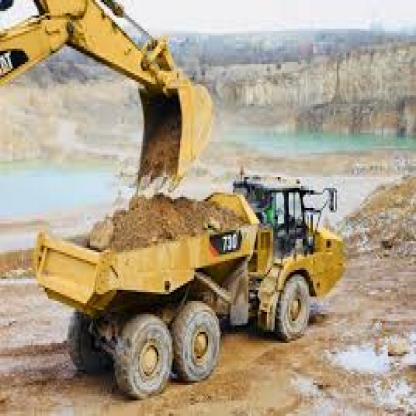dump_truck: (31, 188, 352, 370)
excavator: (4, 0, 229, 190)
